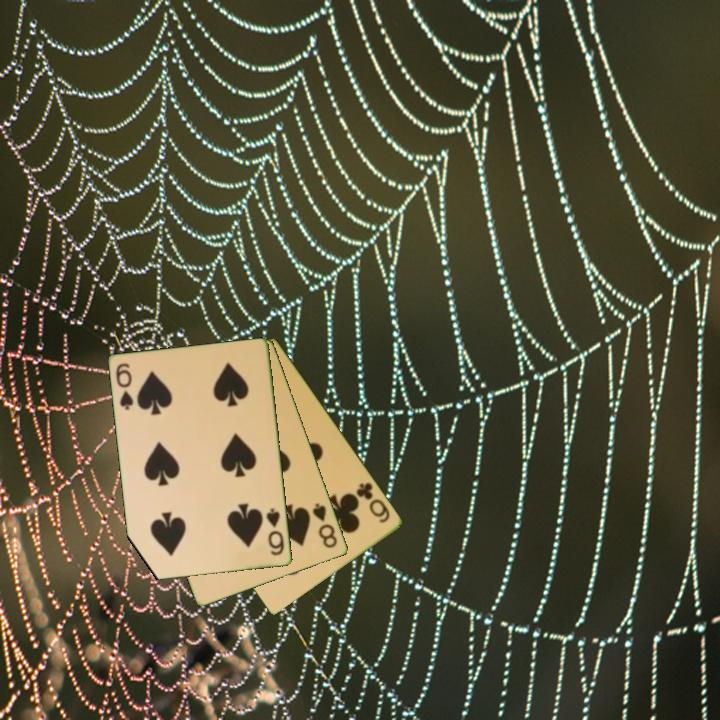6c: (353, 479, 393, 526)
6s: (263, 505, 287, 558), (113, 360, 137, 413)
8s: (309, 500, 341, 551)
